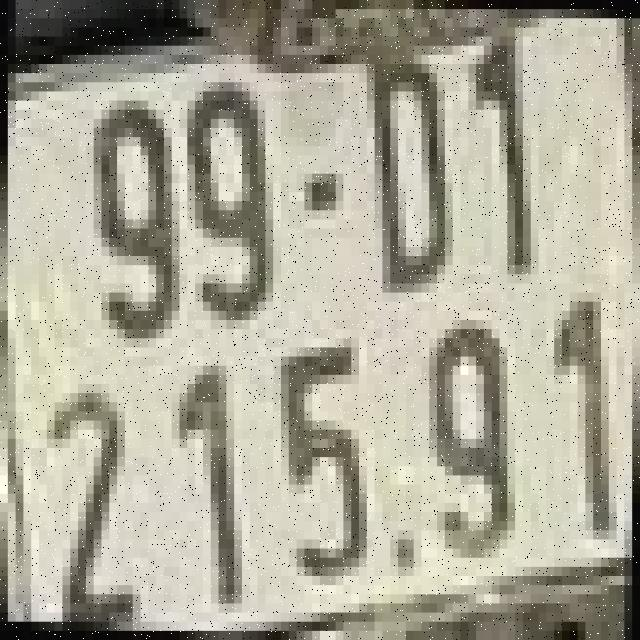1: (172, 361, 258, 608), (546, 297, 624, 535), (472, 37, 550, 274)
2: (39, 384, 148, 622)
5: (273, 343, 375, 580)
9: (421, 316, 523, 562), (183, 82, 277, 320), (90, 101, 183, 338)
D: (363, 60, 457, 297)
